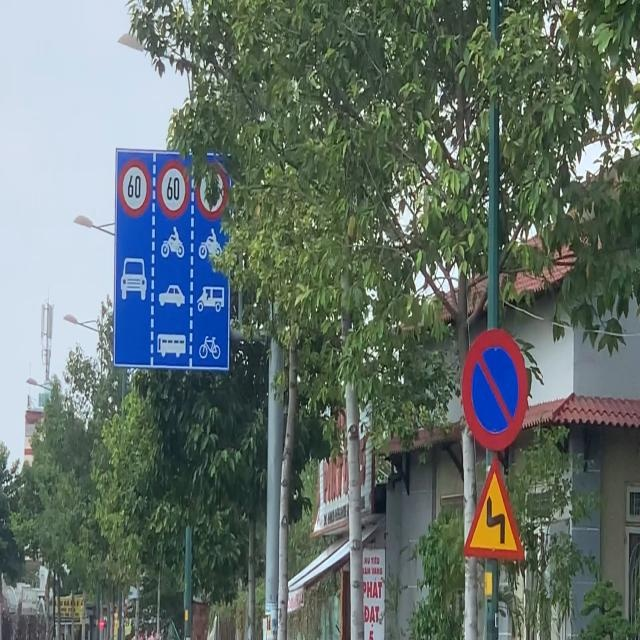bien_nguy_hiem: (463, 314, 530, 454), (460, 448, 530, 566), (118, 150, 151, 228), (157, 154, 192, 220)
